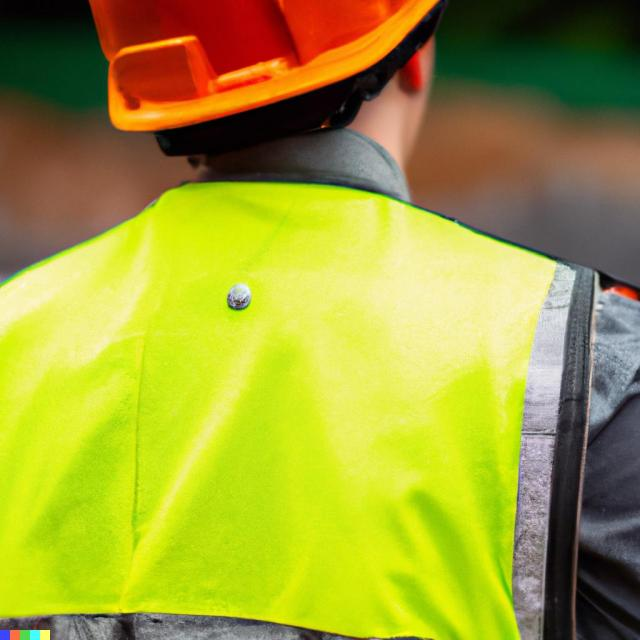Reflective-Jacket: (0, 131, 640, 640)
Safety-Helmet: (84, 0, 466, 139)
